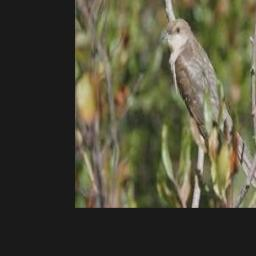Cuckoo: (160, 18, 256, 196)
